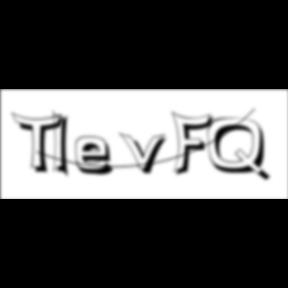F: (172, 110, 220, 178)
Q: (207, 117, 273, 184)
T: (11, 112, 69, 176)
e: (75, 135, 121, 178)
l: (52, 108, 76, 182)
v: (119, 131, 173, 177)
